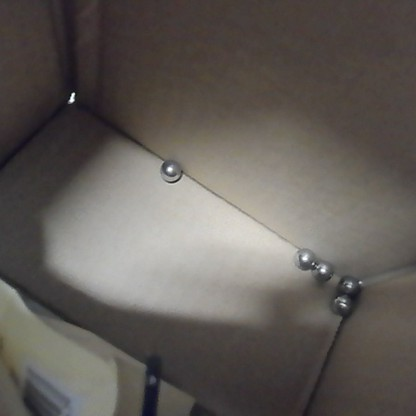ironball: (157, 152, 183, 185), (292, 243, 316, 273), (307, 256, 332, 284), (335, 269, 360, 296), (326, 291, 353, 314)
